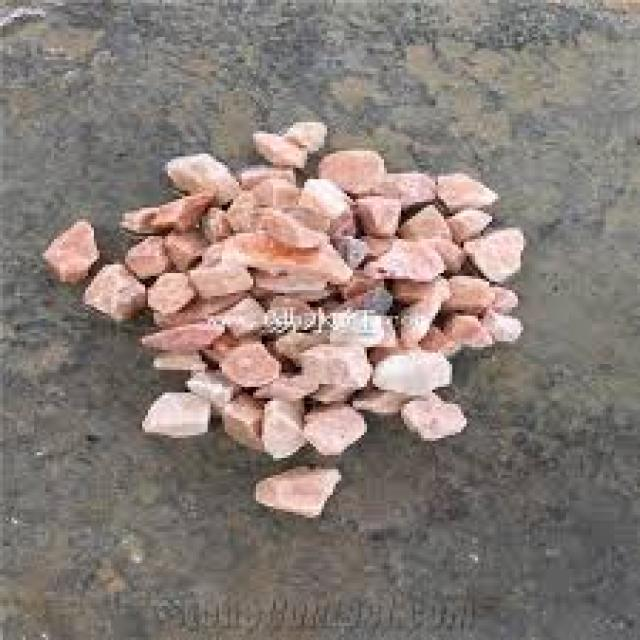Metamorphic: (29, 114, 529, 523)
